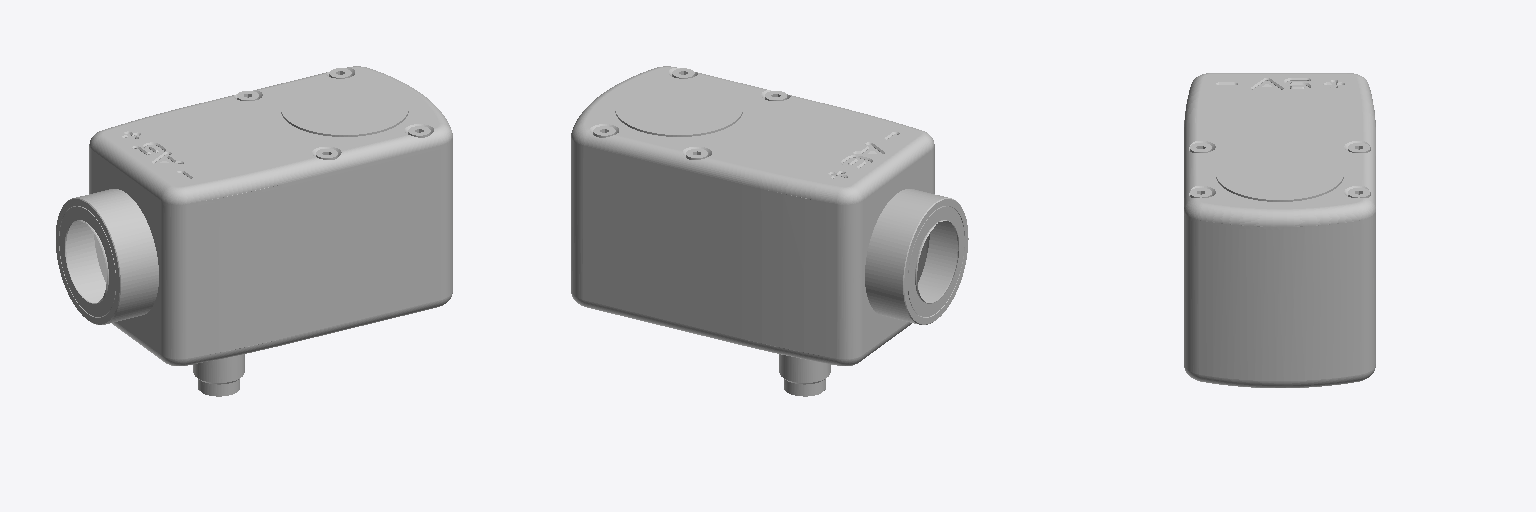
The picture shows the model from 3 angles: view 1: azimuth 30°, elevation 25°; view 2: azimuth 150°, elevation 25°; view 3: azimuth 270°, elevation 25°; orthographic projection.
Parts seen in each view (by area): view 1: Axis6; view 2: Axis6; view 3: Axis6.
Boxes of the visible parts, x1,y1,x2,y2 form: Axis6: [56, 66, 452, 396]; Axis6: [571, 66, 968, 396]; Axis6: [1184, 73, 1375, 387].
Bounding box in the file's own units: 9.2 × 6.52 × 4.5.